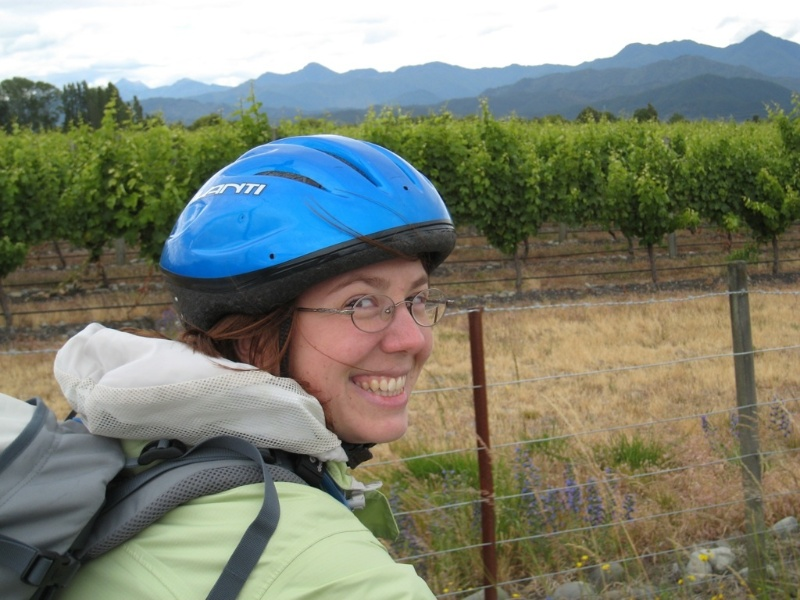Baret: (161, 135, 457, 297)
